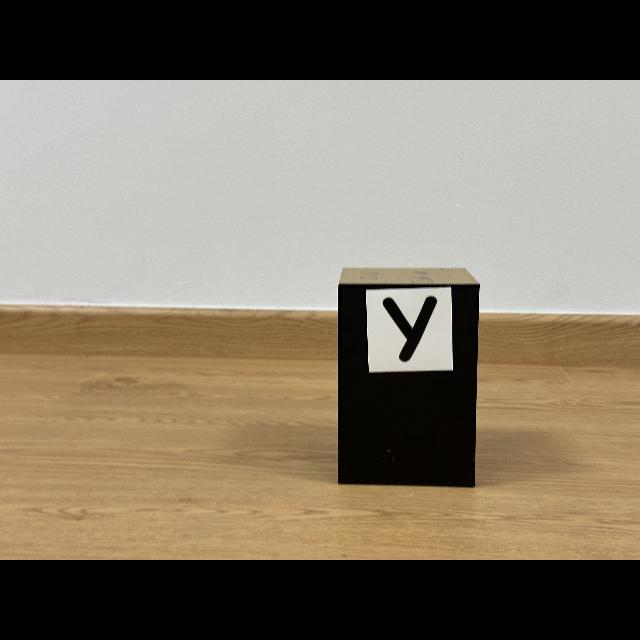Y: (382, 296, 436, 361)
